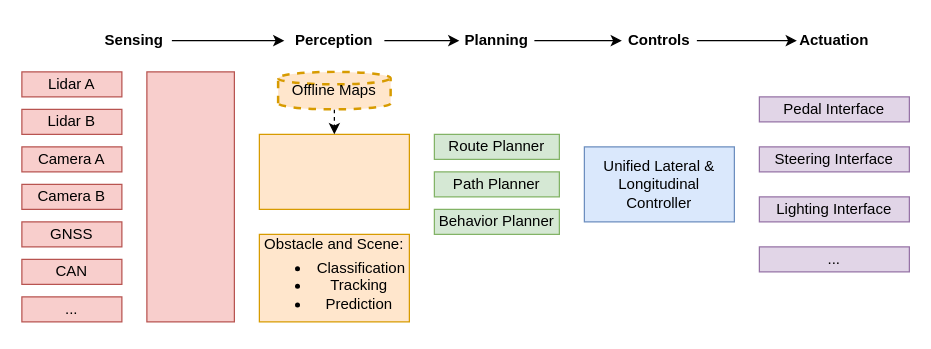
The diagram is 931 pixels wide and 349 high, and some of its shapes have lost their labels. The centre of each missing label's shape, as x and y in pixels:
"Filtering & Processing" belongs at point (190, 196).
"State Estimation" belongs at point (333, 171).
